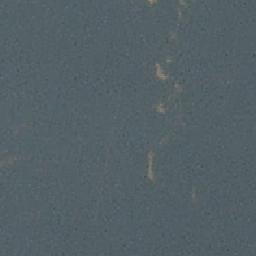debris: (152, 62, 166, 79), (147, 150, 154, 181), (155, 101, 167, 119)
